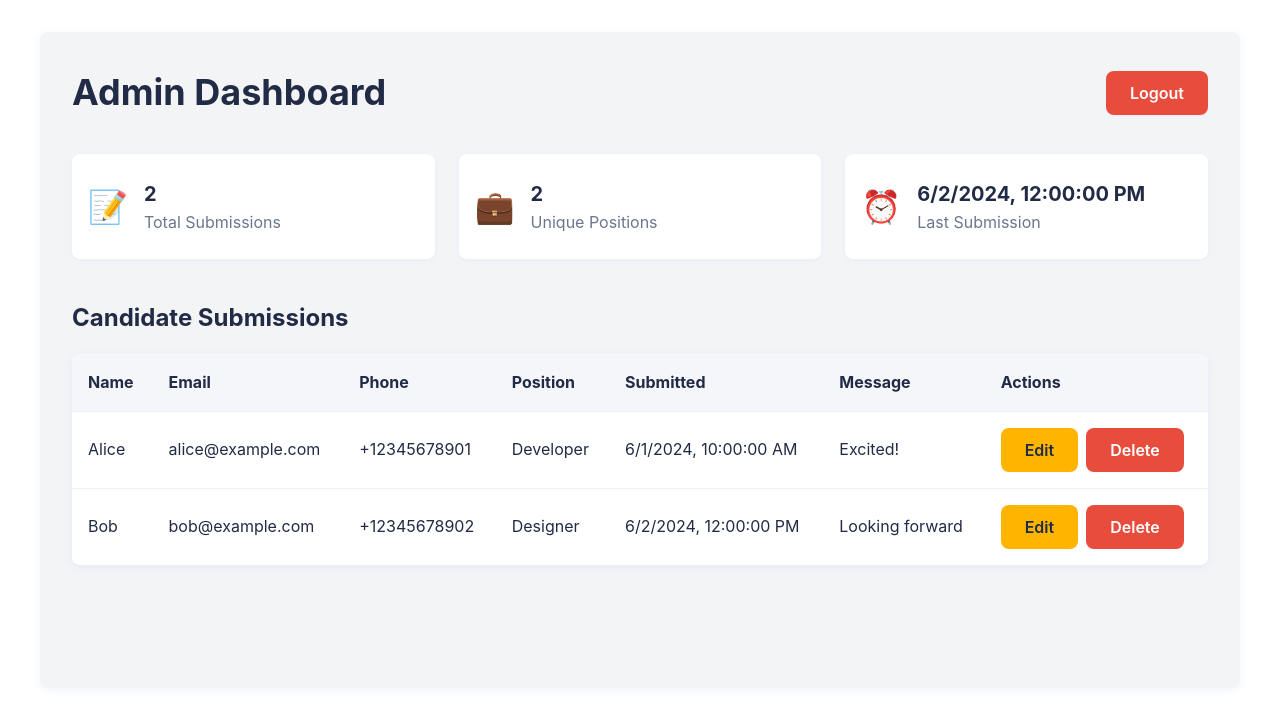
Scenario: AdminDashboard › deletes a submission and updates the table
The image size is (1280, 720).
expect the text "Alice" is shown: met, box [72,412,152,489]
expect the text "Bob" is shown: met, box [72,489,152,565]
Step 1. Click the button "Delete" in the row of "alice@example.com" → point(1135, 450), box [1086,428,1184,472]
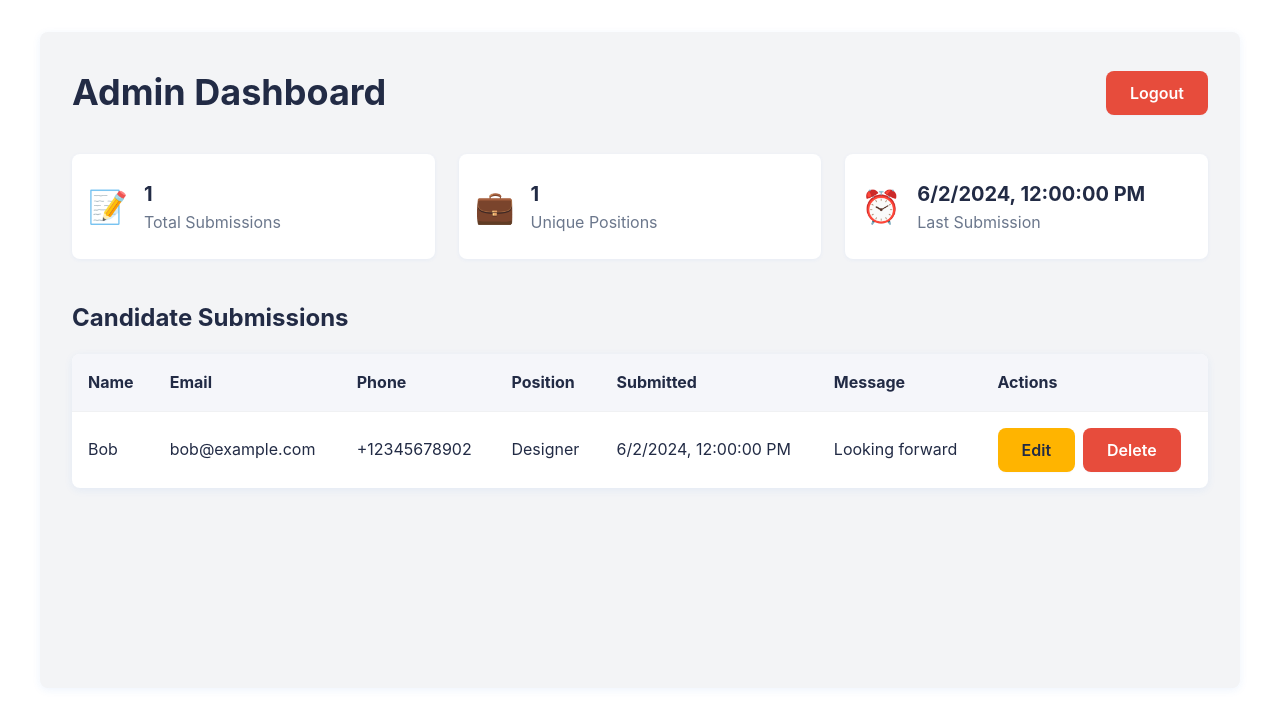
expect the text "Alice" is gone: met
